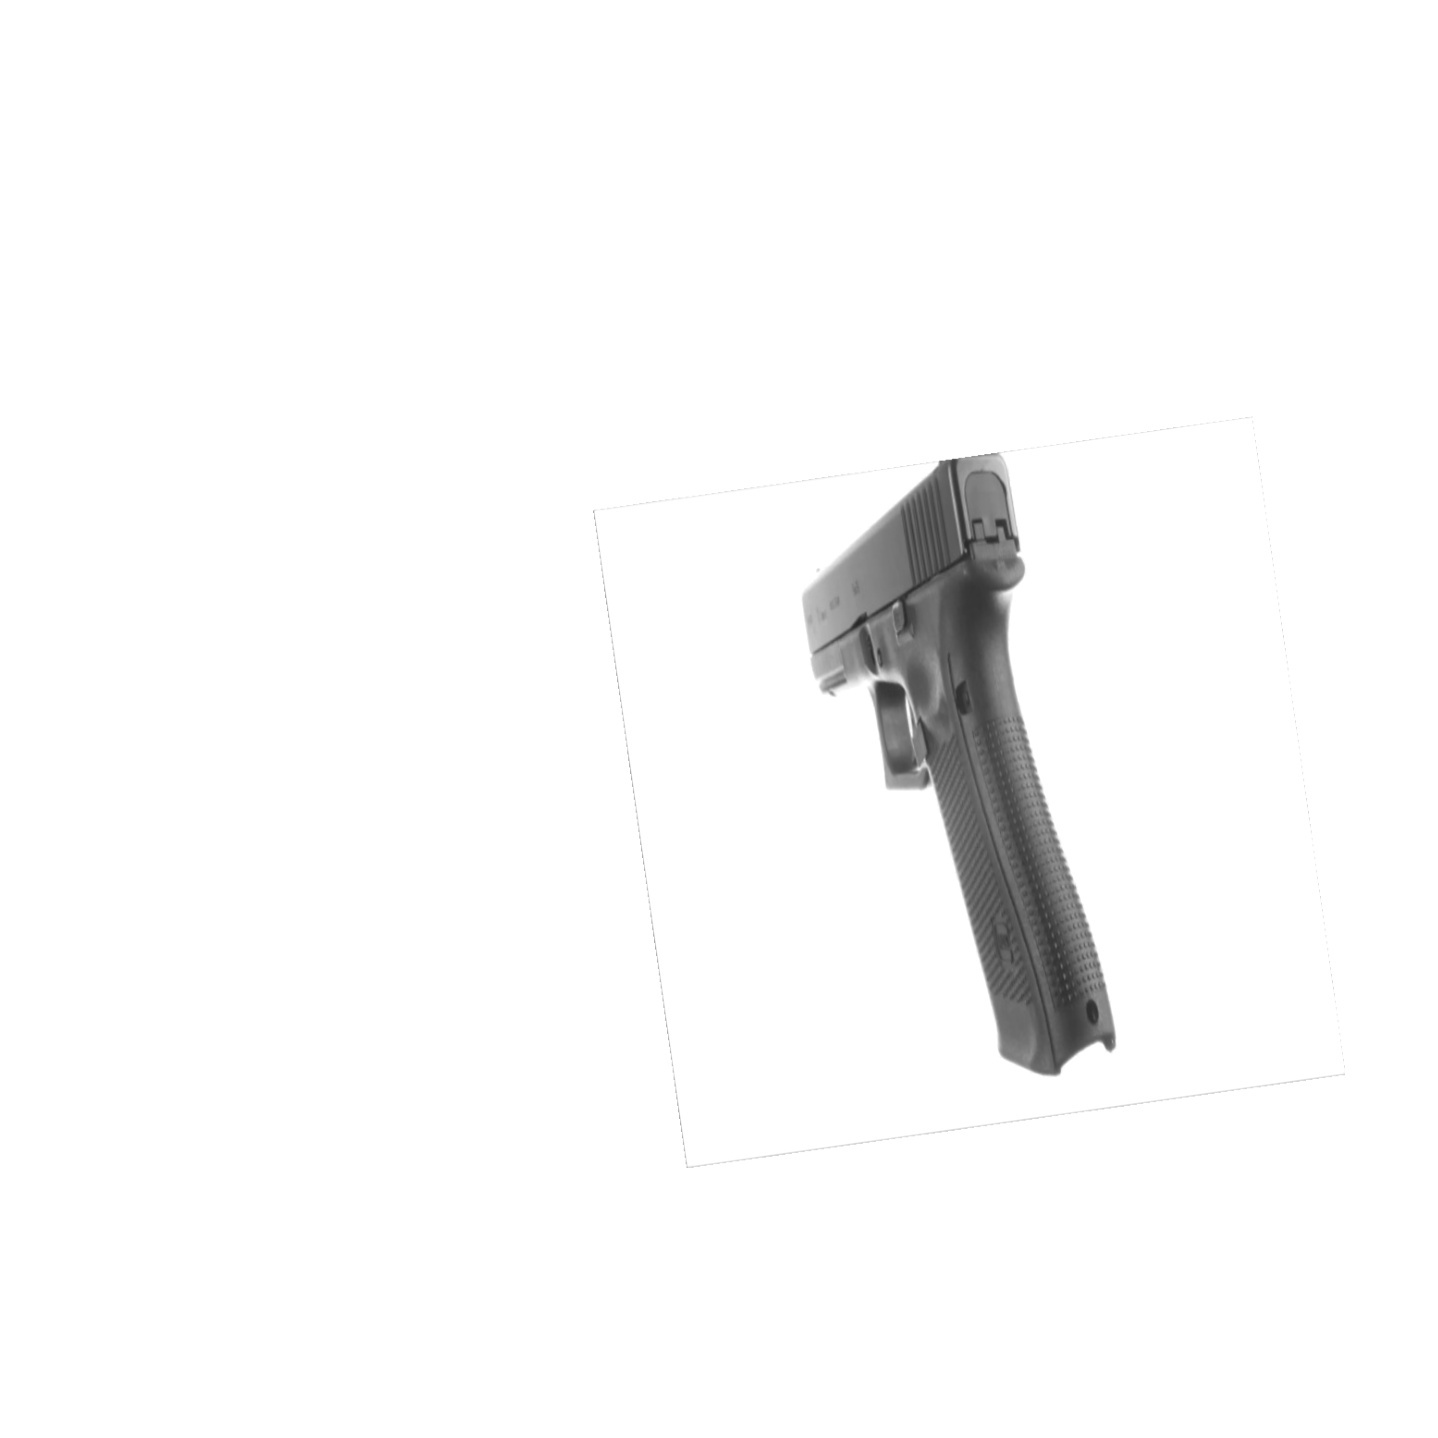gun: (795, 446, 1122, 1086)
